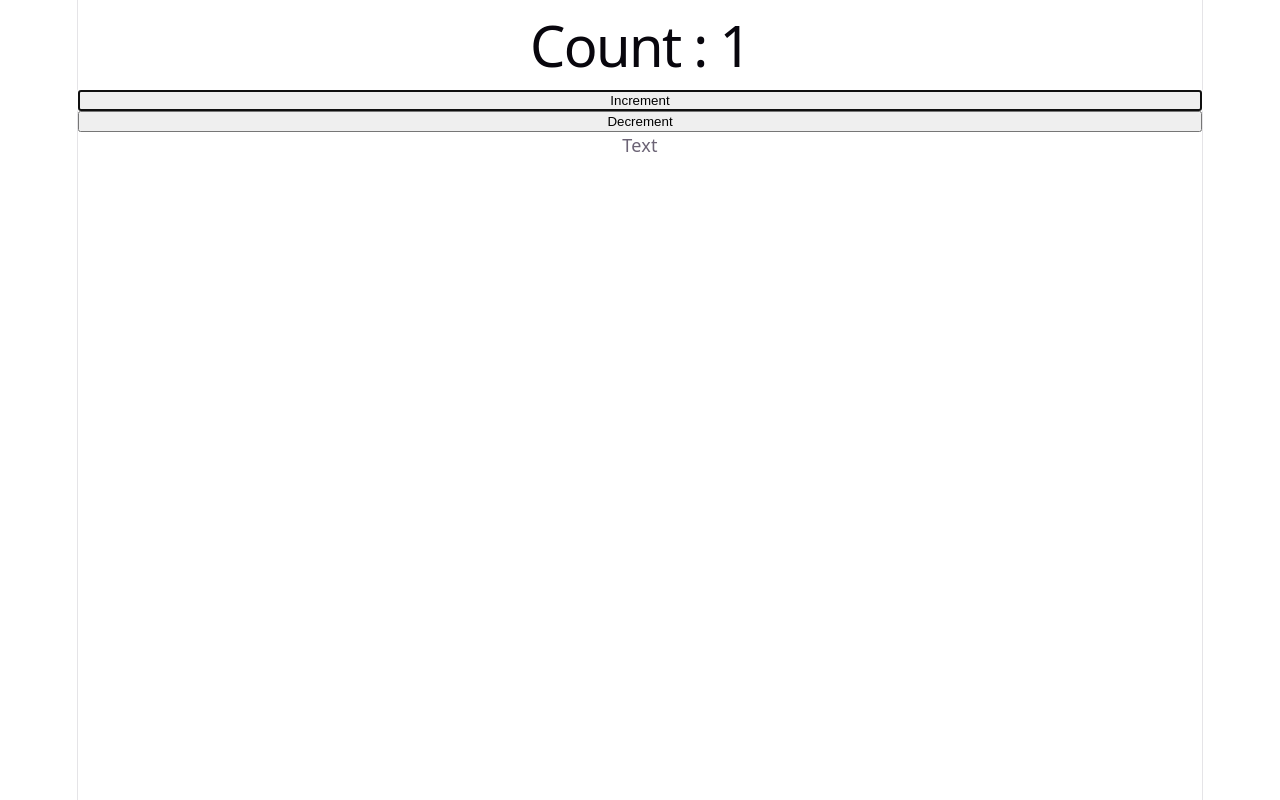
Test: check mix for button clicks
The image size is (1280, 800).
Earlier steps of the test are not shown.
Click the button "Decrement": (640, 122) [78,111,1202,132]
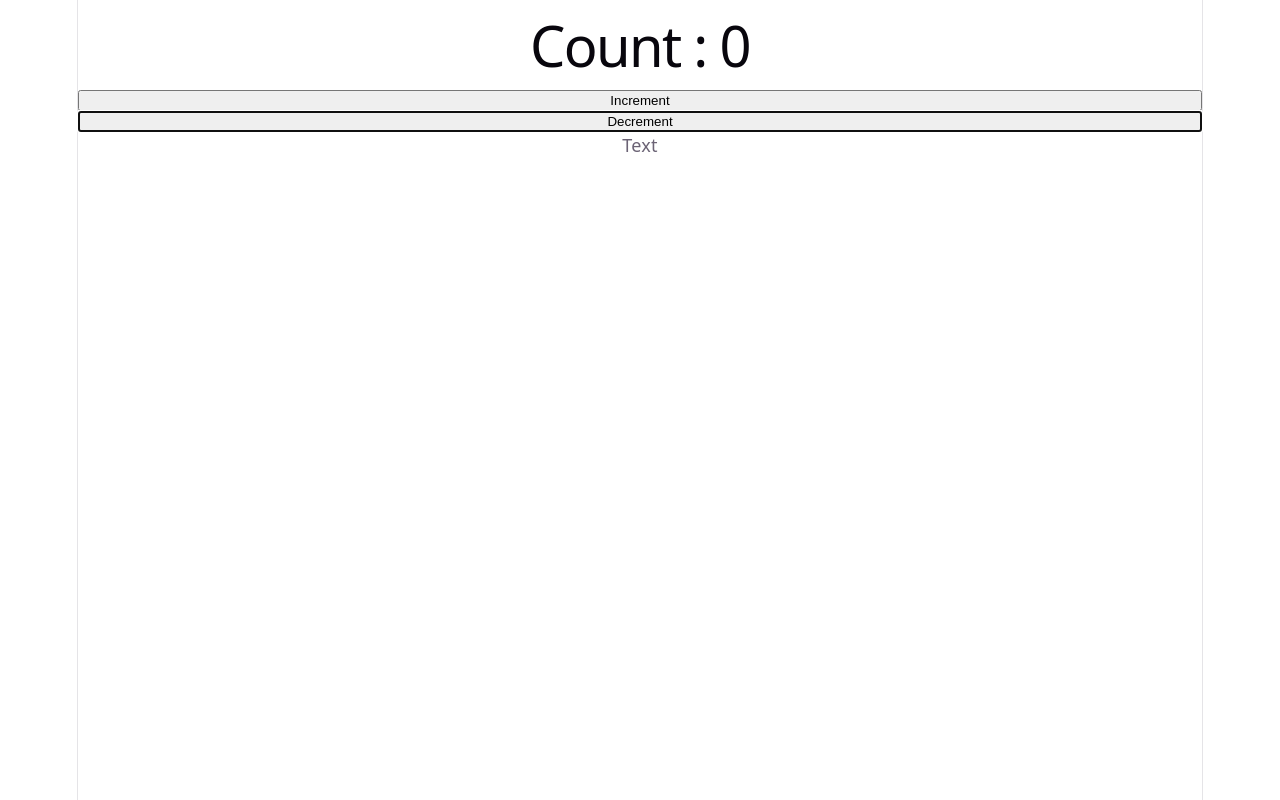
Click the button "Decrement": (640, 122) [78,111,1202,132]
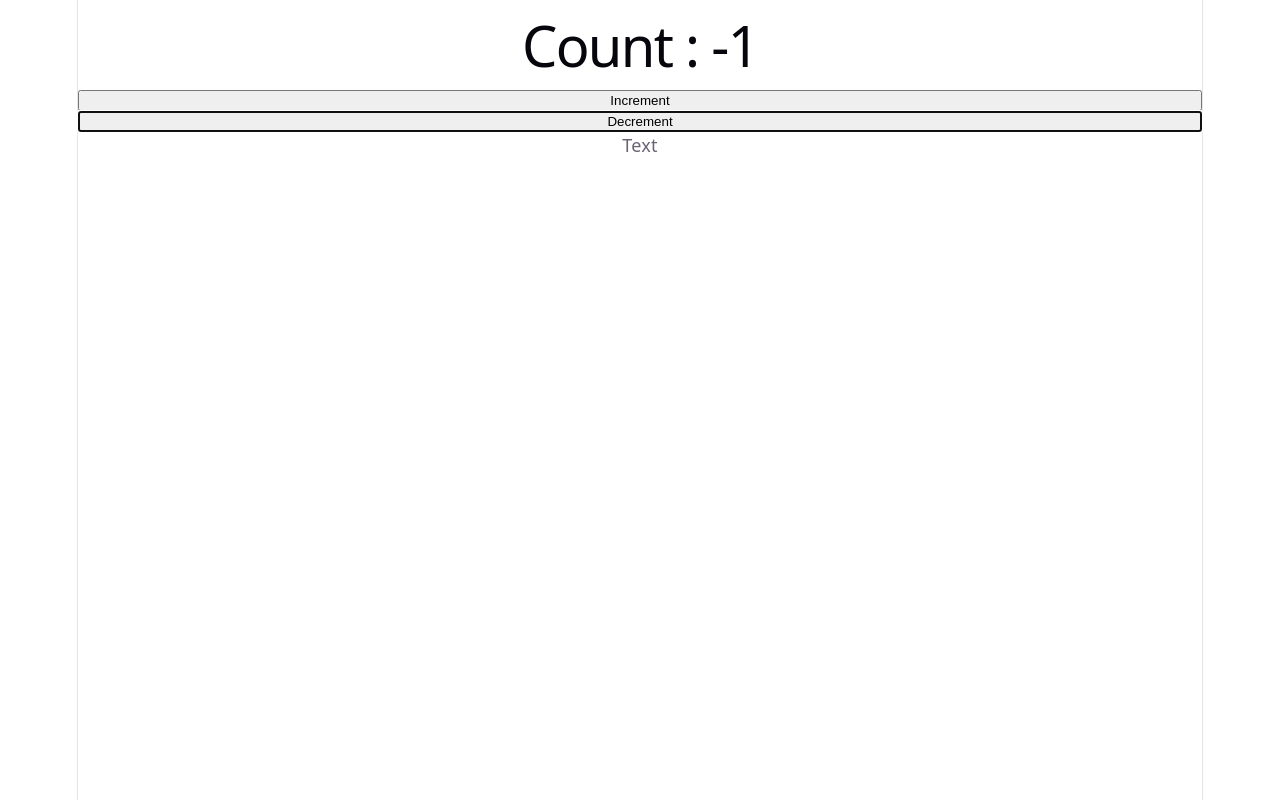
Click the button "Decrement": (640, 122) [78,111,1202,132]
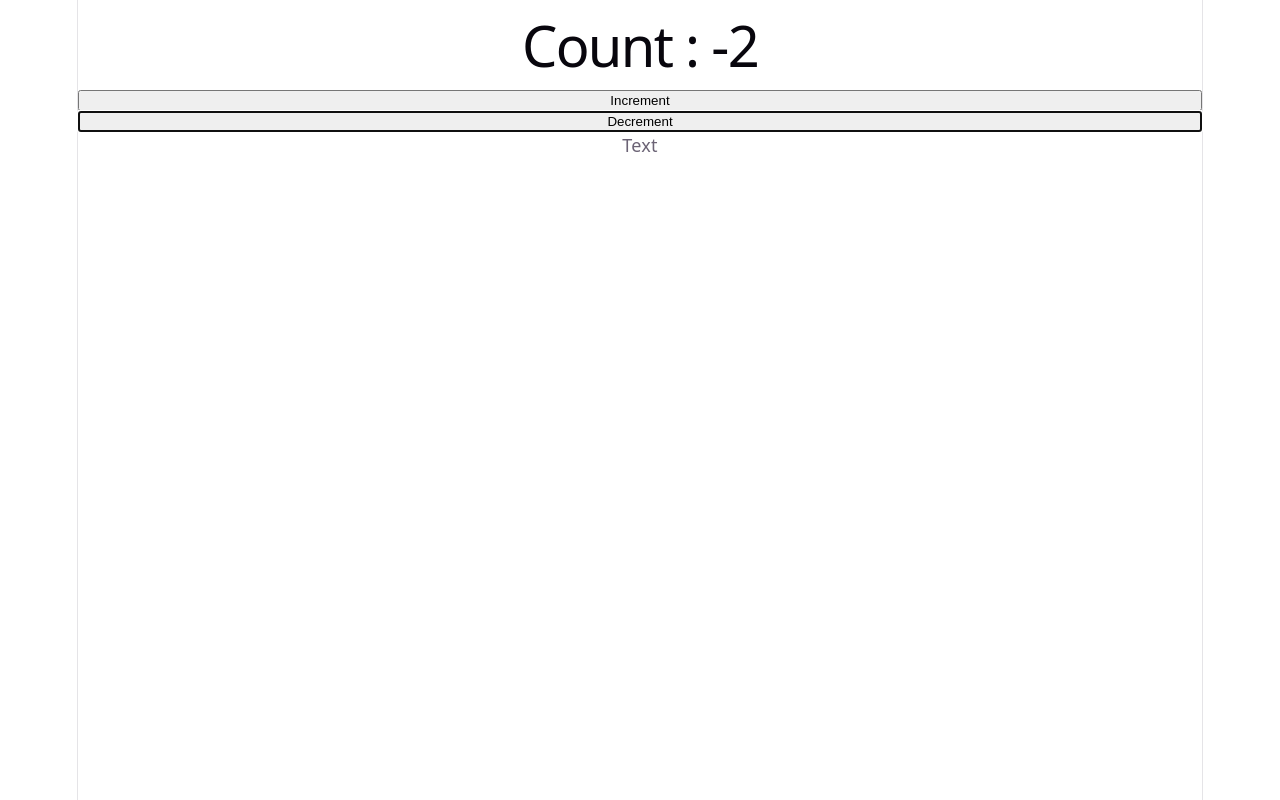
Click the button "Decrement": (640, 122) [78,111,1202,132]
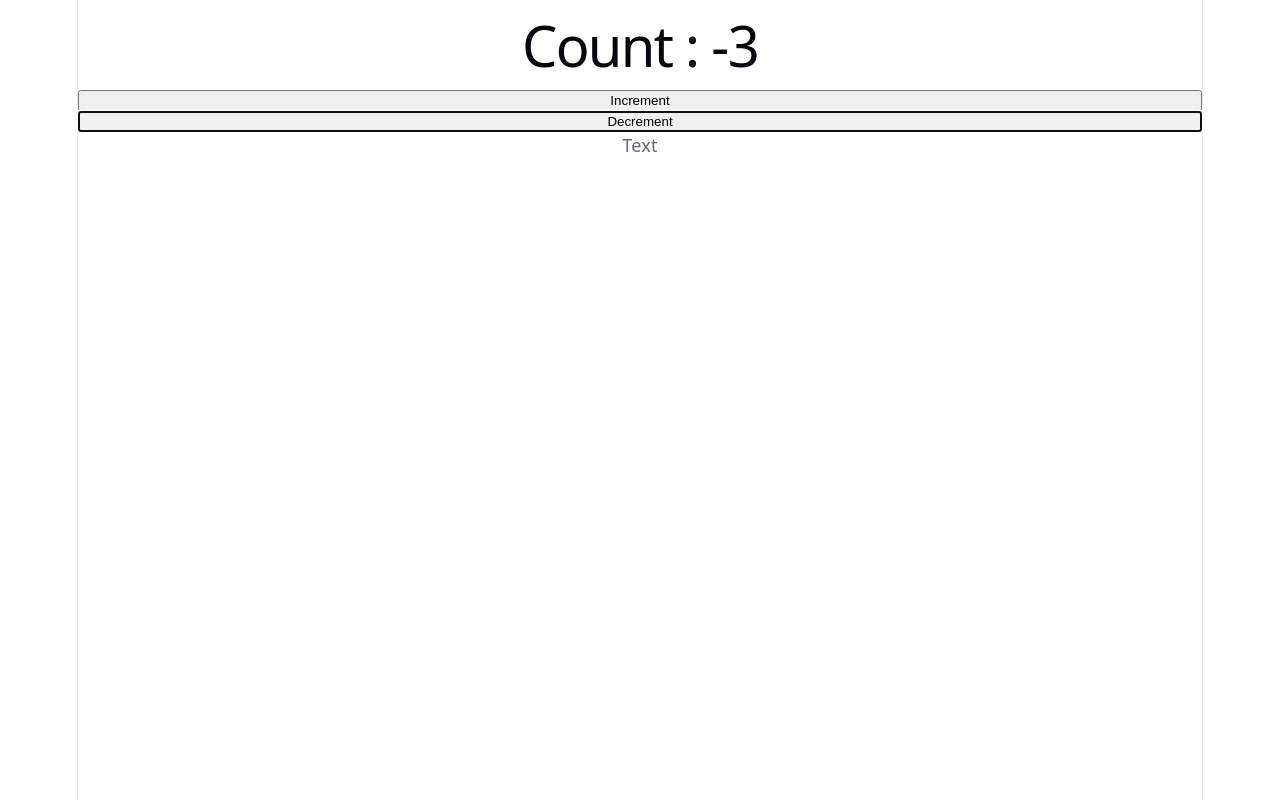
Click the button "Increment": (640, 101) [78,90,1202,111]
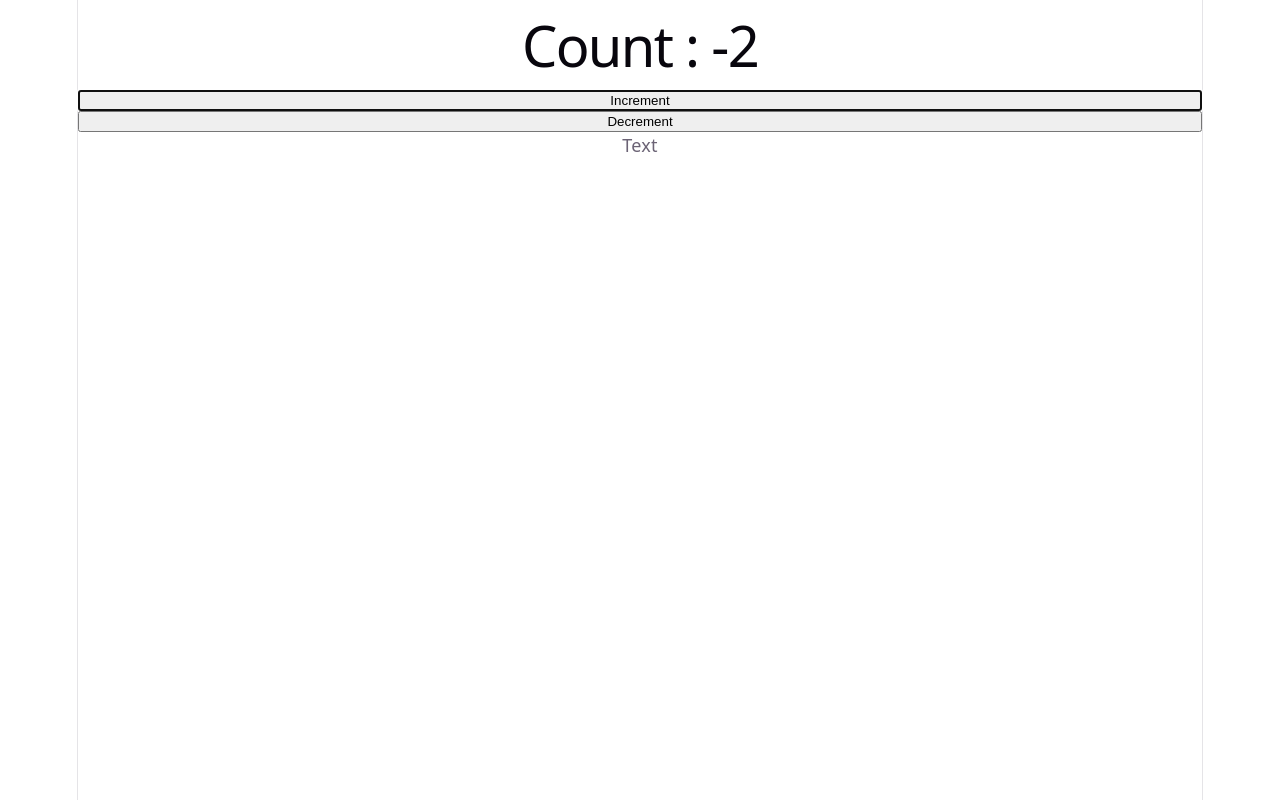
Click the button "Increment": (640, 101) [78,90,1202,111]
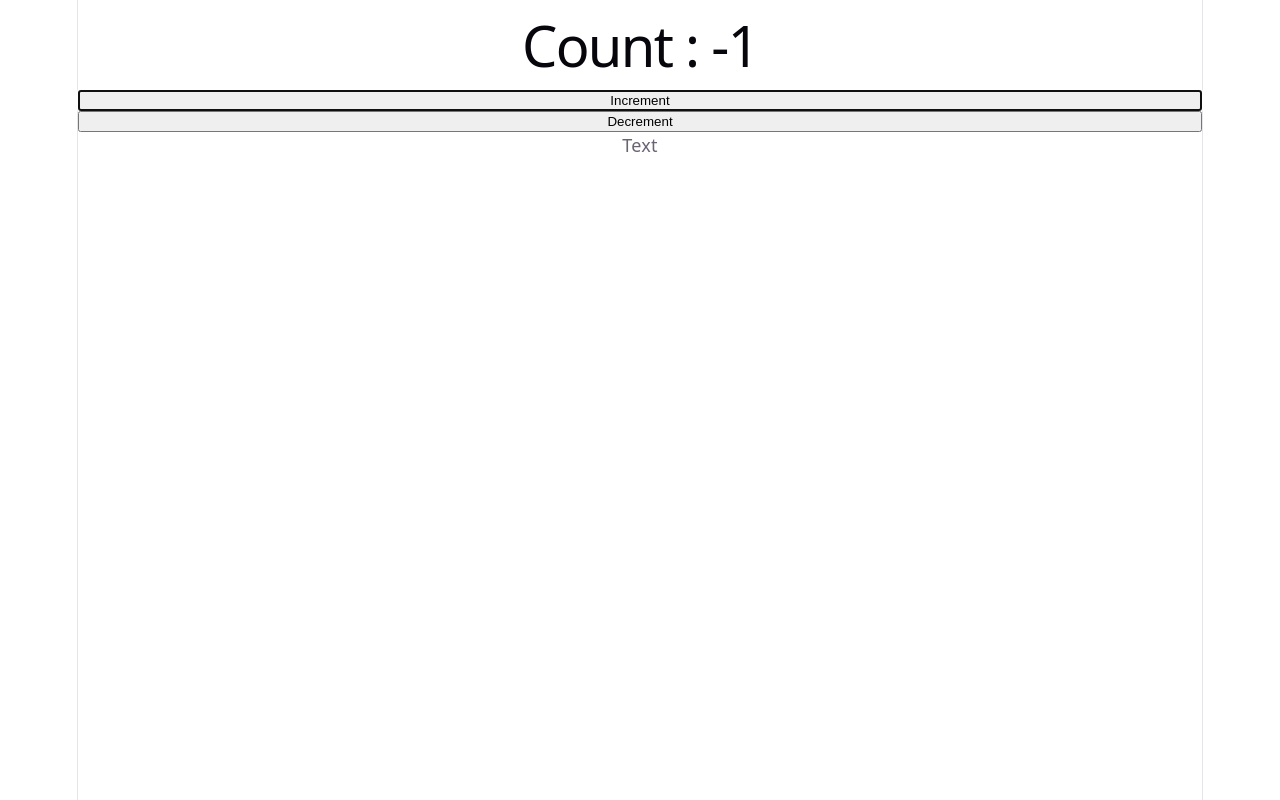
Now the heading with test id "h1-counter-props" reads "Count : -1", box [522,7,758,83]
